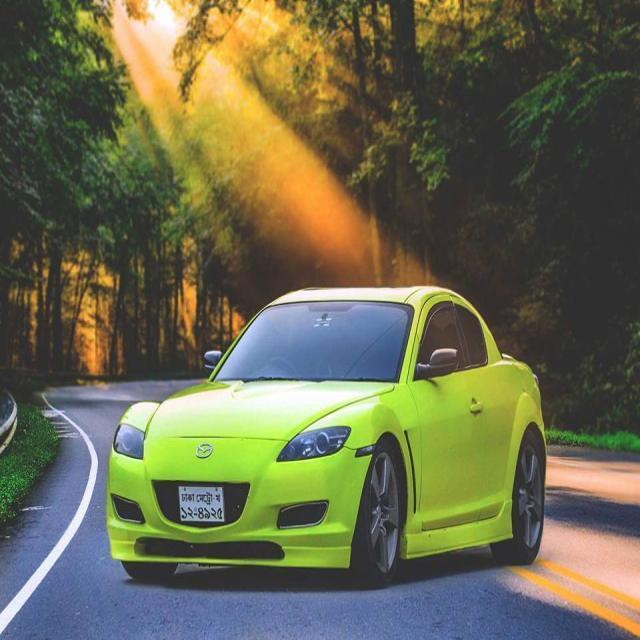numberplate: (176, 484, 226, 524)
